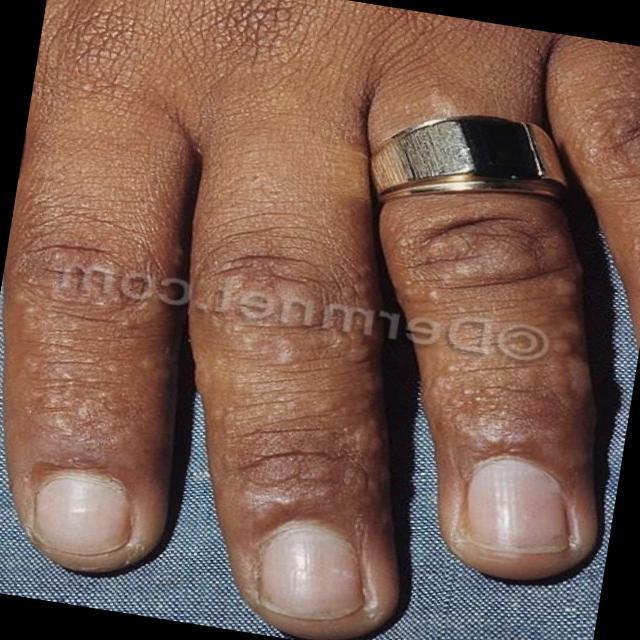Eczema: (399, 205, 605, 508), (184, 264, 387, 554), (19, 221, 175, 468)
